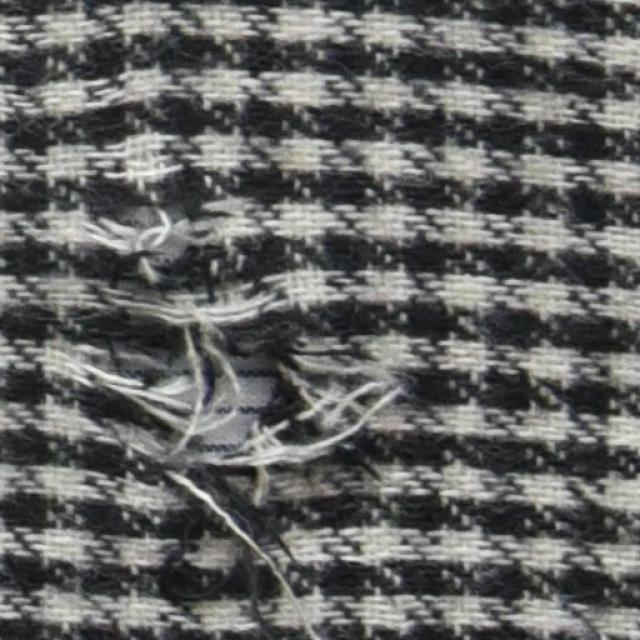Hole: (212, 338, 278, 448)
Snag: (62, 171, 402, 626)
